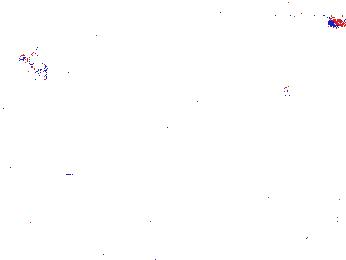glassfish: (201, 140, 305, 214)
red belly glassfish: (16, 51, 50, 80), (280, 82, 294, 103), (328, 15, 346, 30)
redtail glassfish: (272, 5, 337, 29)
